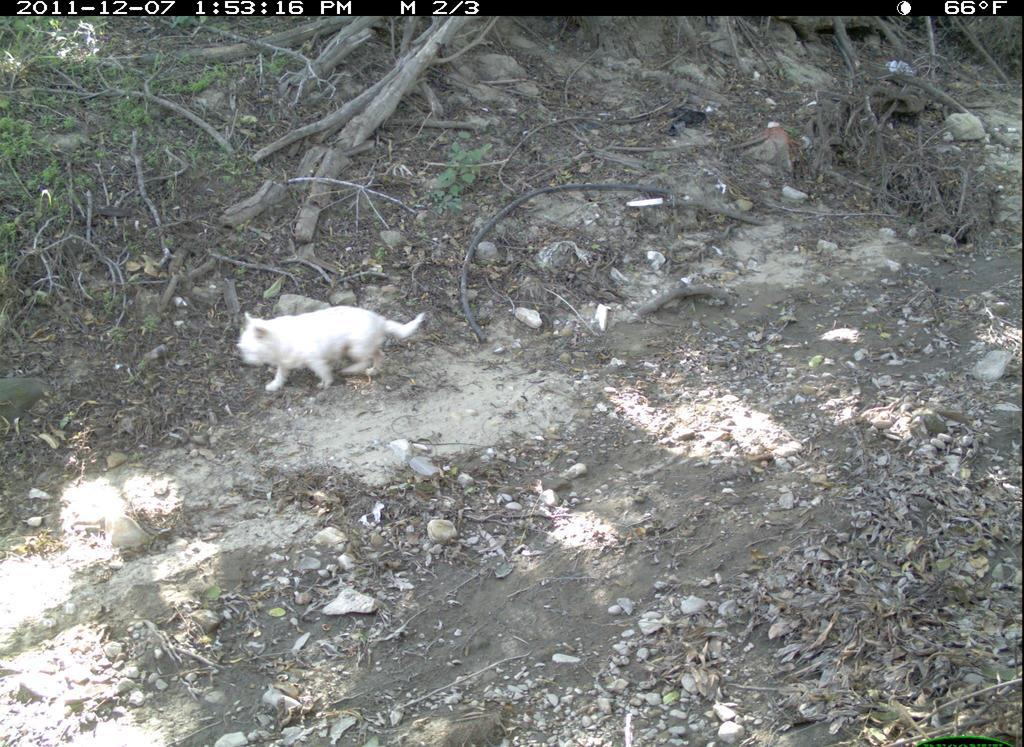dog: (232, 299, 443, 401)
